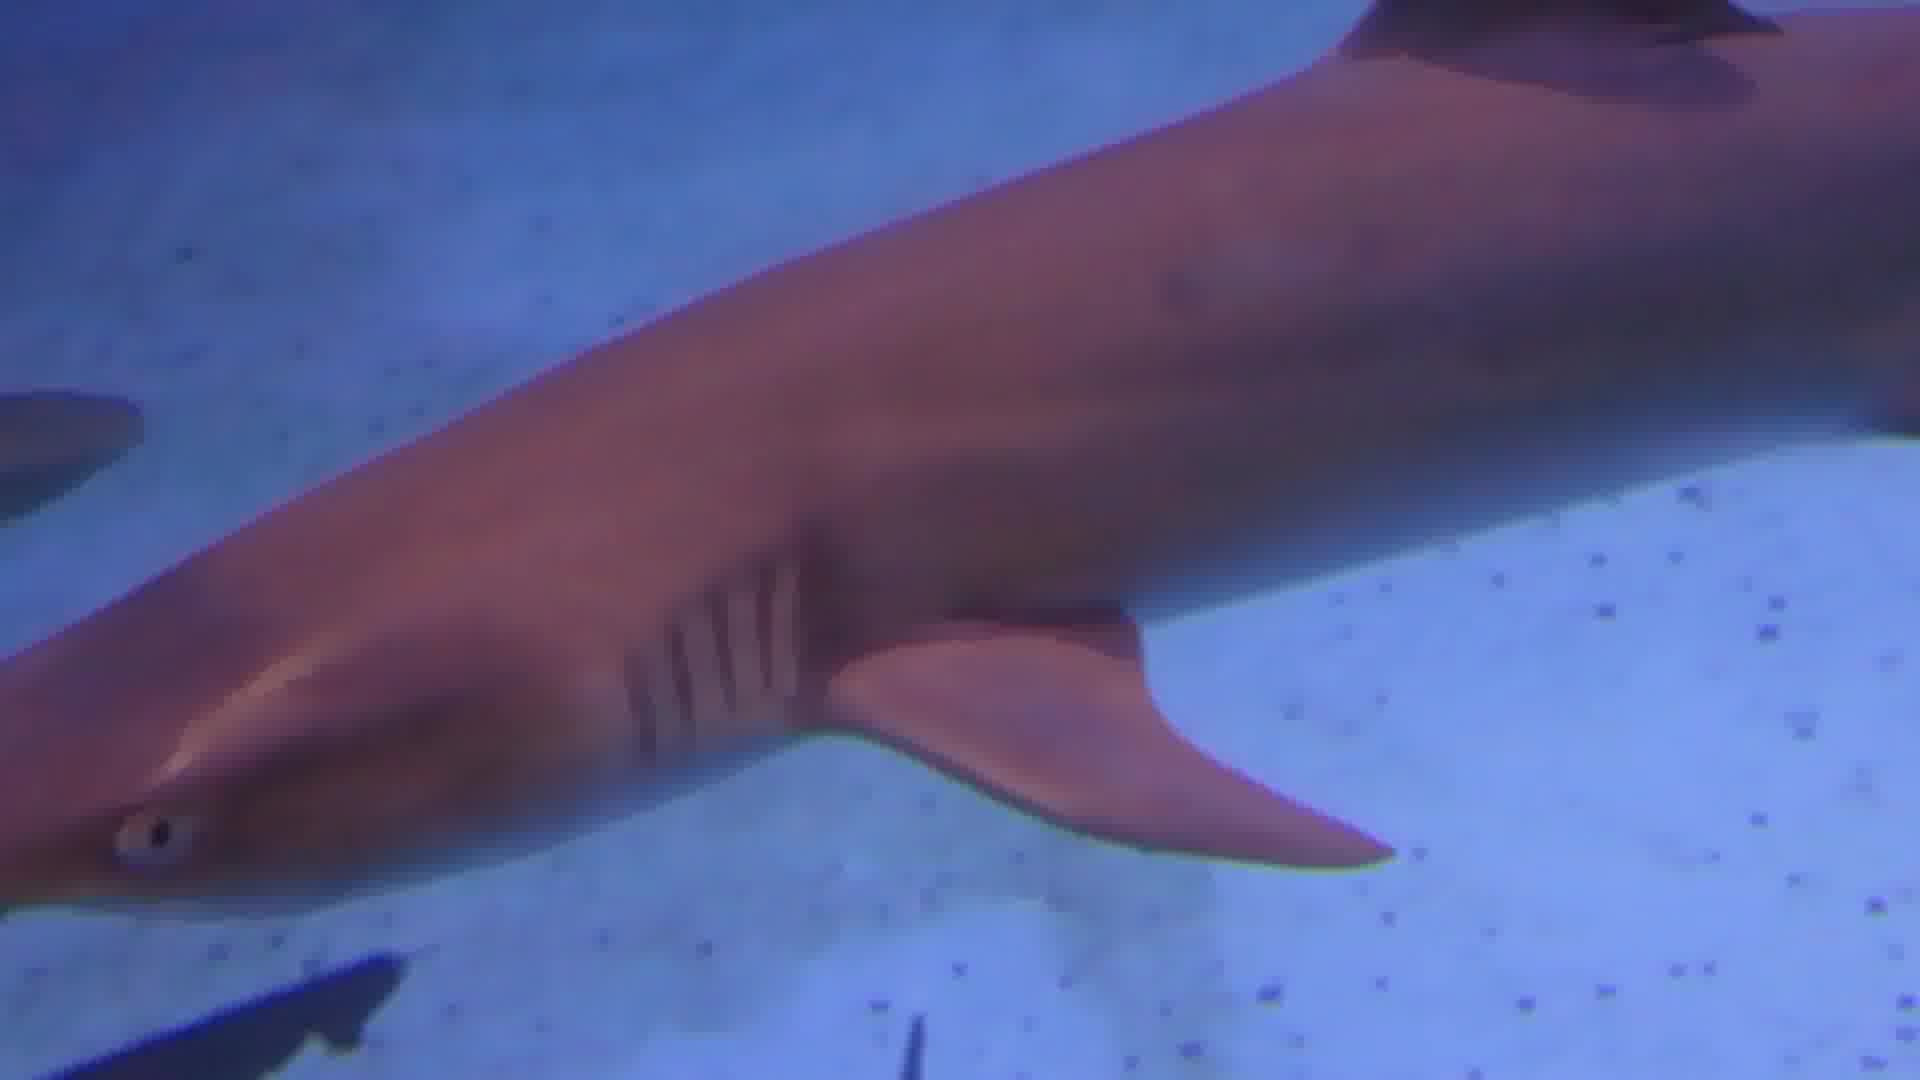Triaenodon obesus: (3, 5, 1916, 965)
